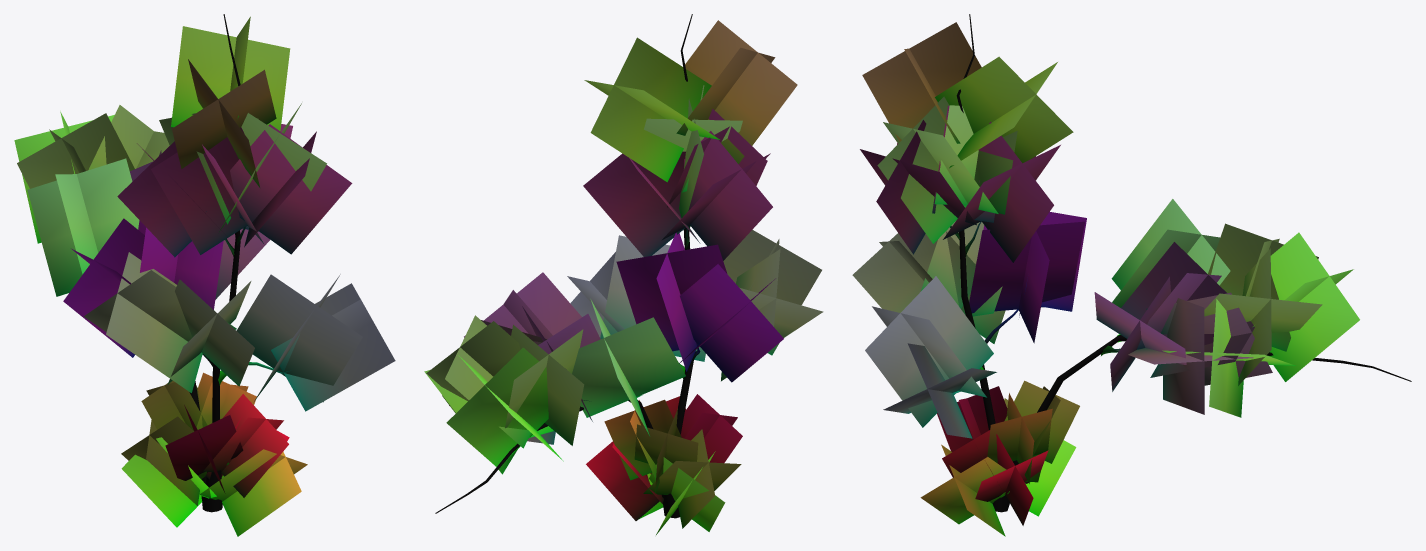
The model's file is URP_P12_Tree_9_LOD_2.fbx.
3 views of the same model, side by side, from view 1: azimuth 30°, elevation 25°; view 2: azimuth 150°, elevation 25°; view 3: azimuth 270°, elevation 25° (orthographic). The views are drawn at different scales.
Visible parts, largest first — view 1: Tree_9_LOD_2; view 2: Tree_9_LOD_2; view 3: Tree_9_LOD_2.
Part boxes in pixels (x1,y1,x2,y2): Tree_9_LOD_2: (14,14,395,536); Tree_9_LOD_2: (424,14,823,534); Tree_9_LOD_2: (852,14,1411,536).
Bounding box in the file's own units: 194 × 347 × 348.
